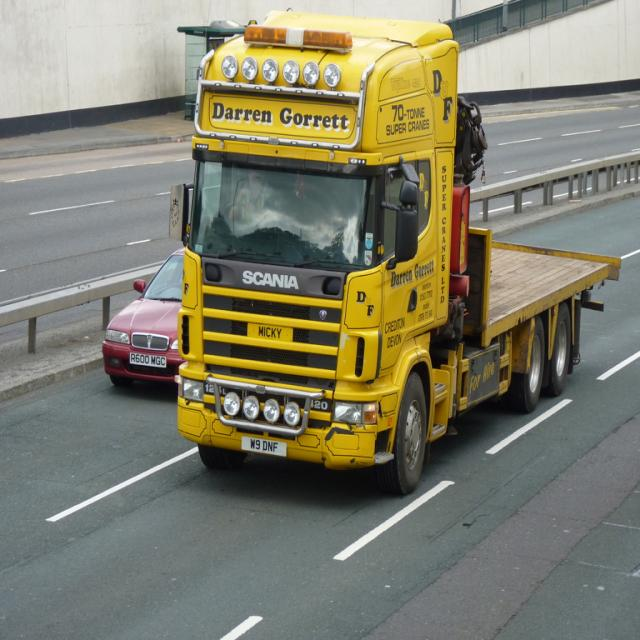Heavy Duty Truck: (163, 11, 632, 498)
Passenger Car: (100, 236, 188, 396)
